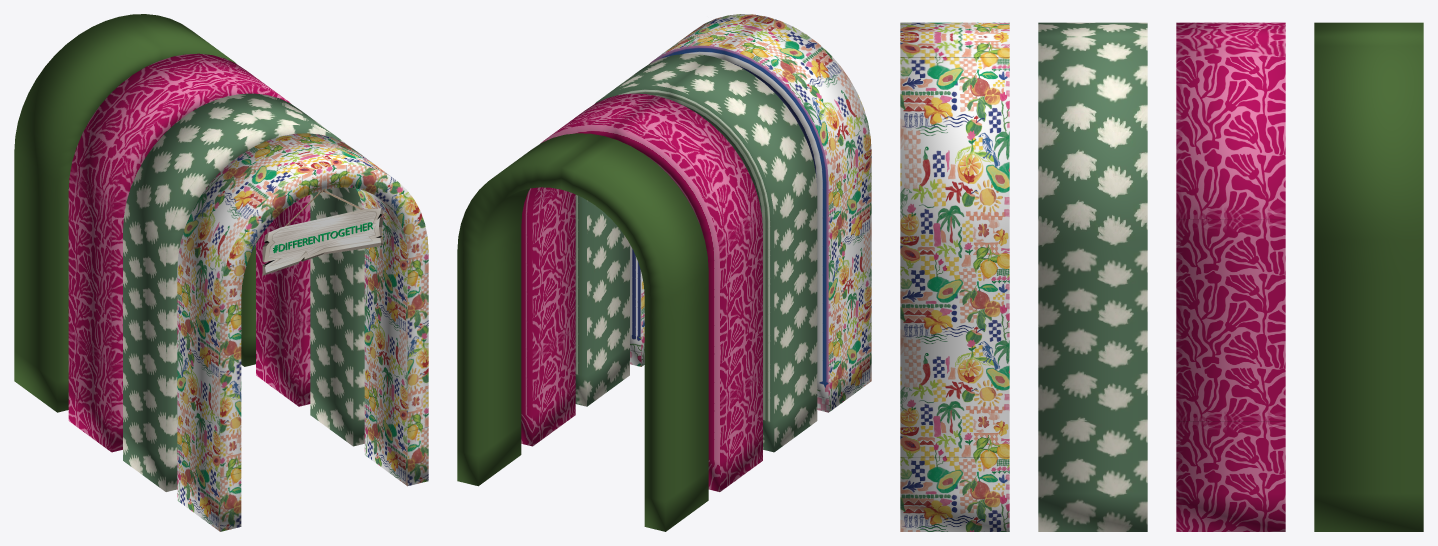
Rendered from UCB-new-try.gltf.
The picture shows the model from 3 angles, left to right: view 1: azimuth 30°, elevation 25°; view 2: azimuth 150°, elevation 25°; view 3: azimuth 270°, elevation 25°; orthographic projection. The views are drawn at different scales.
Parts seen in each view (by area): view 1: Cube, Cube.006, Cube.004, Cube.005, Plane.001, Text; view 2: Cube.005, Cube.004, Cube.006, Cube; view 3: Cube, Cube.004, Cube.005, Cube.006.
Boxes of the visible parts, box(x1,y1,x2,y2) form: Cube: box(177, 133, 428, 531); Cube.006: box(123, 93, 364, 491); Cube.004: box(68, 53, 310, 452); Cube.005: box(14, 14, 255, 412); Plane.001: box(262, 208, 383, 275); Text: box(273, 222, 372, 253); Cube.005: box(457, 133, 708, 531); Cube.004: box(521, 93, 762, 491); Cube.006: box(575, 53, 817, 452); Cube: box(630, 14, 871, 412); Cube: box(900, 22, 1009, 531); Cube.004: box(1176, 22, 1285, 531); Cube.005: box(1314, 22, 1423, 531); Cube.006: box(1038, 22, 1147, 531).
Bounding box in the file's own units: 0.9996 × 1.55 × 1.71.
7 materials, 6 textured.
